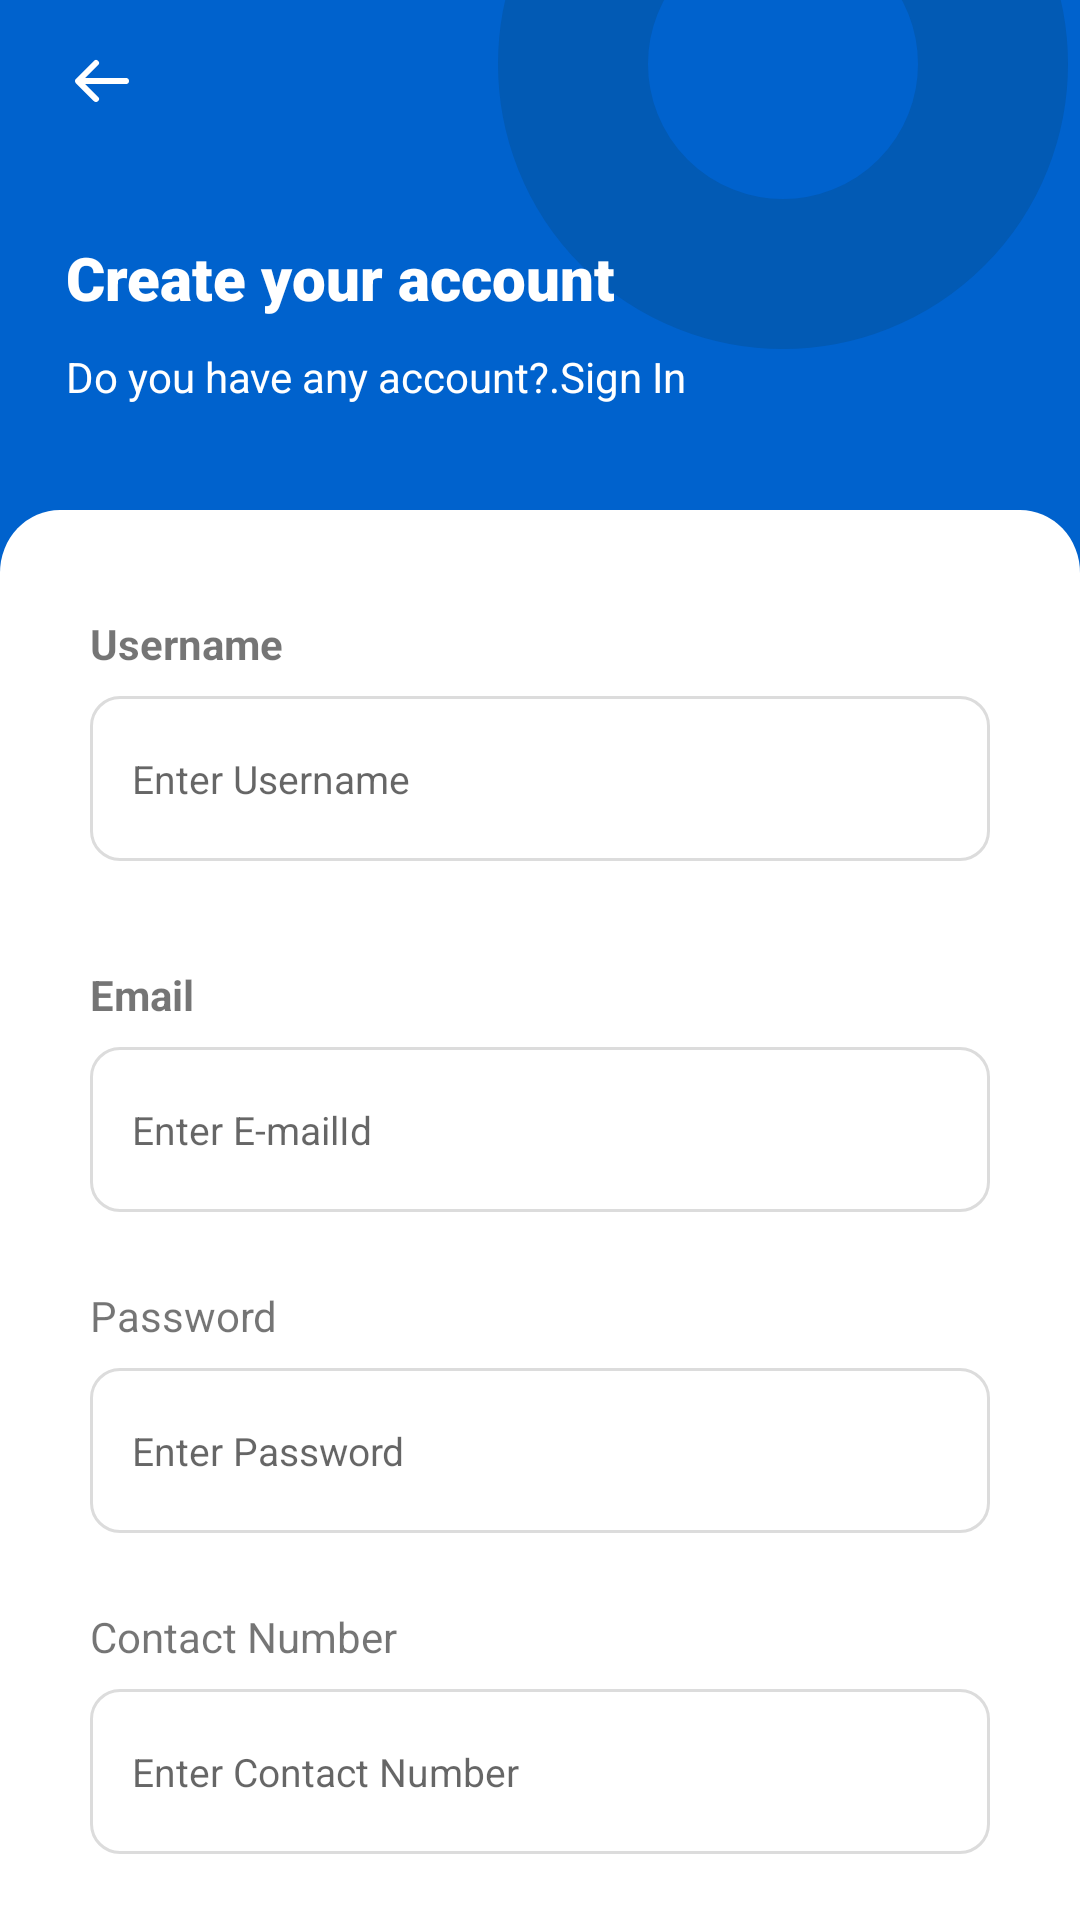

Named icons in this screenshot (1080×1920) and their centers, [x,y]:
arrow: [102,81]
